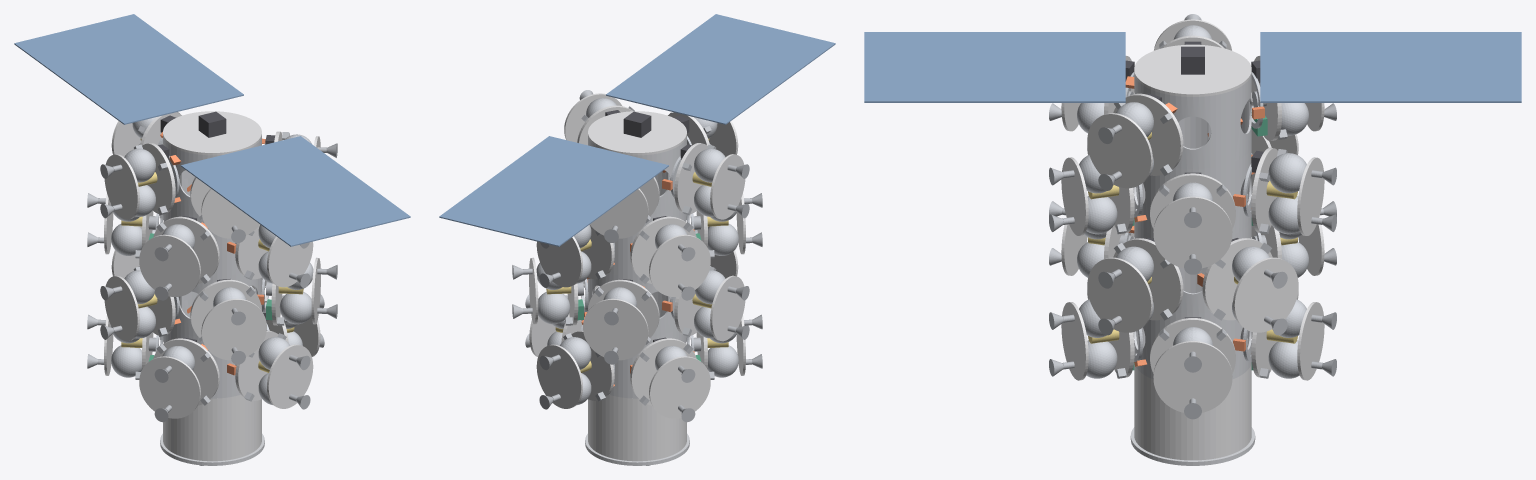
The model's file is v7_carrier_4ring_deployed.glb.
The picture shows the model from 3 angles, left to right: view 1: azimuth 30°, elevation 25°; view 2: azimuth 150°, elevation 25°; view 3: azimuth 270°, elevation 25°; orthographic projection. The views are drawn at different scales.
Visible parts, largest first — view 1: wing_0, wing_1, bus, deck, k13_top, k03_top, k23_top, k04_top, k33_top, k24_top, k12_top, k32_top (+29 smaller); view 2: wing_1, wing_0, bus, deck, k11_top, k02_top, k22_top, k01_top, k31_top, k21_top, k12_top, k32_top (+31 smaller); view 3: wing_0, wing_1, bus, ring_3, deck, k20_top, k00_top, k10_top, k14_top, k34_top, ring_2, ring_0 (+29 smaller).
Boxes of the visible parts, bbox=[...] form: wing_0: bbox=[14, 14, 243, 124]; wing_1: bbox=[181, 136, 410, 246]; bus: bbox=[163, 395, 261, 461]; deck: bbox=[163, 111, 261, 155]; k13_top: bbox=[201, 298, 266, 360]; k03_top: bbox=[139, 356, 200, 418]; k23_top: bbox=[139, 234, 200, 296]; k04_top: bbox=[267, 344, 313, 408]; k33_top: bbox=[201, 188, 259, 238]; k24_top: bbox=[267, 236, 313, 287]; k12_top: bbox=[104, 275, 139, 341]; k32_top: bbox=[104, 154, 139, 219]; wing_1: bbox=[606, 14, 835, 124]; wing_0: bbox=[439, 136, 668, 246]; bus: bbox=[588, 395, 686, 461]; deck: bbox=[588, 111, 686, 155]; k11_top: bbox=[583, 298, 648, 360]; k02_top: bbox=[649, 356, 710, 418]; k22_top: bbox=[649, 234, 710, 296]; k01_top: bbox=[536, 344, 582, 408]; k31_top: bbox=[590, 188, 648, 238]; k21_top: bbox=[536, 236, 582, 287]; k12_top: bbox=[710, 275, 745, 341]; k32_top: bbox=[710, 154, 745, 219]; wing_0: bbox=[1260, 32, 1521, 102]; wing_1: bbox=[864, 32, 1125, 102]; bus: bbox=[1134, 364, 1251, 460]; ring_3: bbox=[1134, 75, 1251, 169]; deck: bbox=[1134, 44, 1251, 96]; k20_top: bbox=[1153, 196, 1232, 268]; k00_top: bbox=[1153, 341, 1232, 412]; k10_top: bbox=[1233, 257, 1298, 332]; k14_top: bbox=[1087, 257, 1152, 332]; k34_top: bbox=[1087, 113, 1152, 188]; ring_2: bbox=[1134, 120, 1251, 234]; ring_0: bbox=[1134, 267, 1251, 379].
Size of the model in its own units: 3.98 by 5.81 by 8.8.
